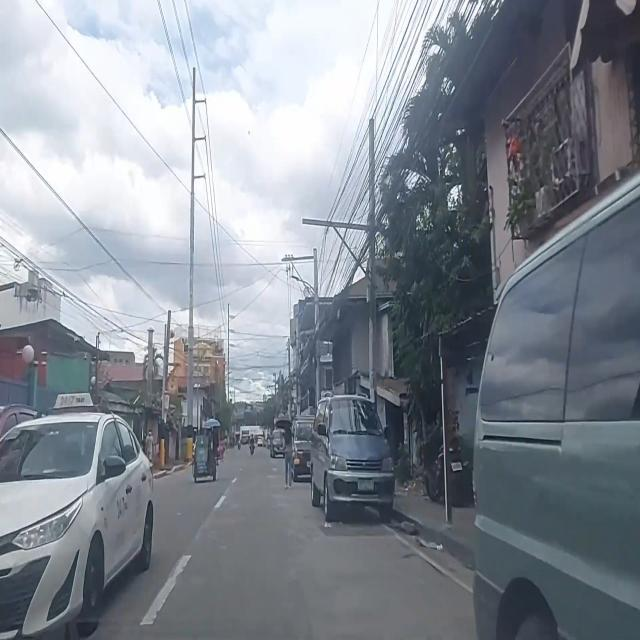car: (470, 158, 638, 632), (0, 391, 154, 640), (314, 392, 394, 524), (290, 419, 314, 483)
motorcycle: (419, 407, 466, 510)
tricycle: (193, 419, 220, 483)
